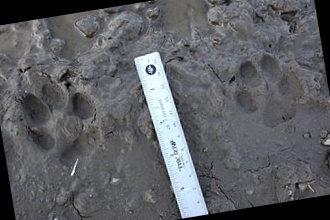coyote: (16, 73, 109, 182), (228, 48, 309, 136)
